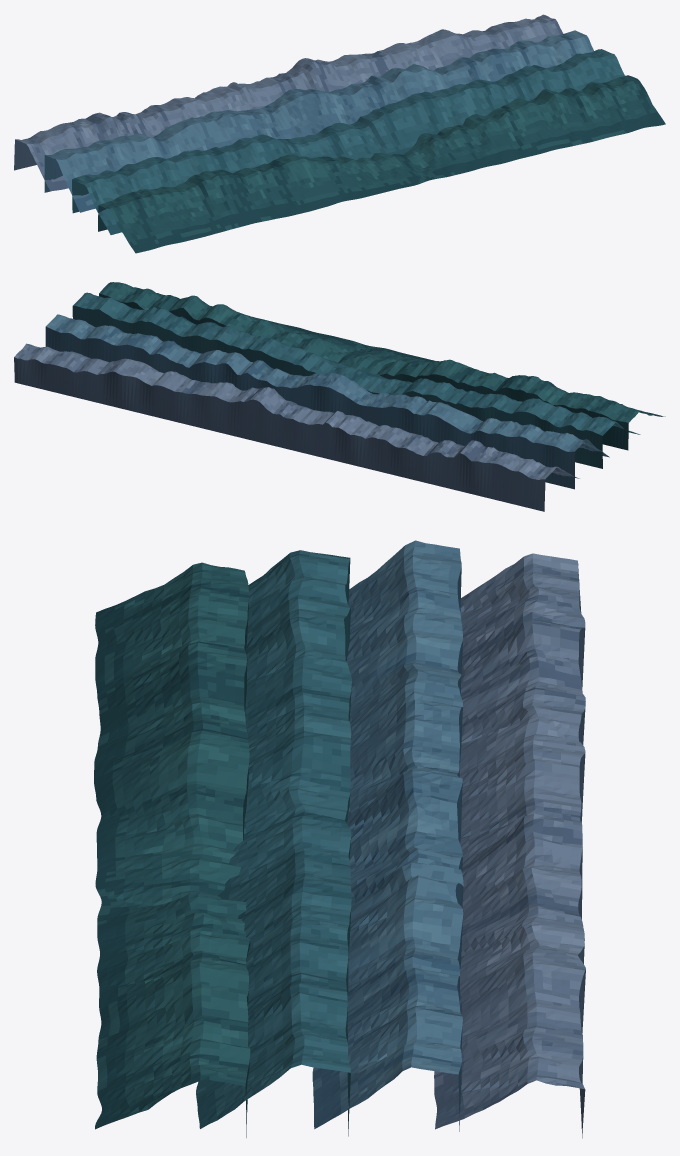
File: alpine-valley.obj
The picture shows the model from 3 angles, top to bottom: view 1: azimuth 30°, elevation 25°; view 2: azimuth 150°, elevation 25°; view 3: azimuth 270°, elevation 25°; orthographic projection. The views are drawn at different scales.
Parts seen in each view (by area): view 1: NearDeep, NearShade, HighBase, FarBase, NearBase, MiddleBase, MiddleDeep, NearStrata, HighDeep, HighStrata, MiddleStrata, FarDeep (+8 smaller); view 2: FarShade, HighShade, MiddleShade, NearBase, FarBase, HighBase, MiddleBase, NearShade, MiddleDeep, NearDeep, HighStrata, NearStrata (+8 smaller); view 3: NearDeep, FarBase, FarDeep, NearBase, HighDeep, HighBase, MiddleDeep, NearShade, MiddleBase, NearStrata, HighStrata, FarStrata (+8 smaller).
Part boxes in pixels (x1,y1,x2,y2): NearDeep: [108, 75, 657, 242]; NearShade: [98, 78, 665, 253]; HighBase: [51, 31, 593, 180]; FarBase: [16, 14, 556, 161]; NearBase: [99, 76, 637, 223]; MiddleBase: [76, 49, 623, 203]; MiddleDeep: [77, 50, 624, 220]; NearStrata: [101, 78, 642, 244]; HighDeep: [48, 34, 592, 198]; HighStrata: [45, 34, 577, 205]; MiddleStrata: [84, 54, 621, 225]; FarDeep: [25, 15, 559, 175]; FarShade: [14, 353, 579, 511]; HighShade: [45, 319, 609, 489]; MiddleShade: [72, 306, 640, 468]; NearBase: [102, 284, 645, 422]; FarBase: [14, 346, 565, 479]; HighBase: [49, 314, 595, 451]; MiddleBase: [73, 293, 623, 433]; NearShade: [99, 282, 665, 450]; MiddleDeep: [80, 296, 632, 432]; NearDeep: [99, 284, 655, 420]; HighStrata: [58, 326, 594, 451]; NearStrata: [109, 282, 657, 420]; NearDeep: [122, 565, 249, 1116]; FarBase: [494, 556, 585, 1089]; FarDeep: [459, 560, 584, 1113]; NearBase: [159, 562, 250, 1084]; HighDeep: [339, 540, 462, 1113]; HighBase: [375, 540, 463, 1091]; MiddleDeep: [224, 553, 351, 1109]; NearShade: [94, 583, 250, 1137]; MiddleBase: [261, 552, 351, 1089]; NearStrata: [96, 565, 249, 1100]; HighStrata: [312, 544, 463, 1108]; FarStrata: [434, 564, 585, 1118].
Size of the model in its own units: 230 by 19.13 by 92.53.
